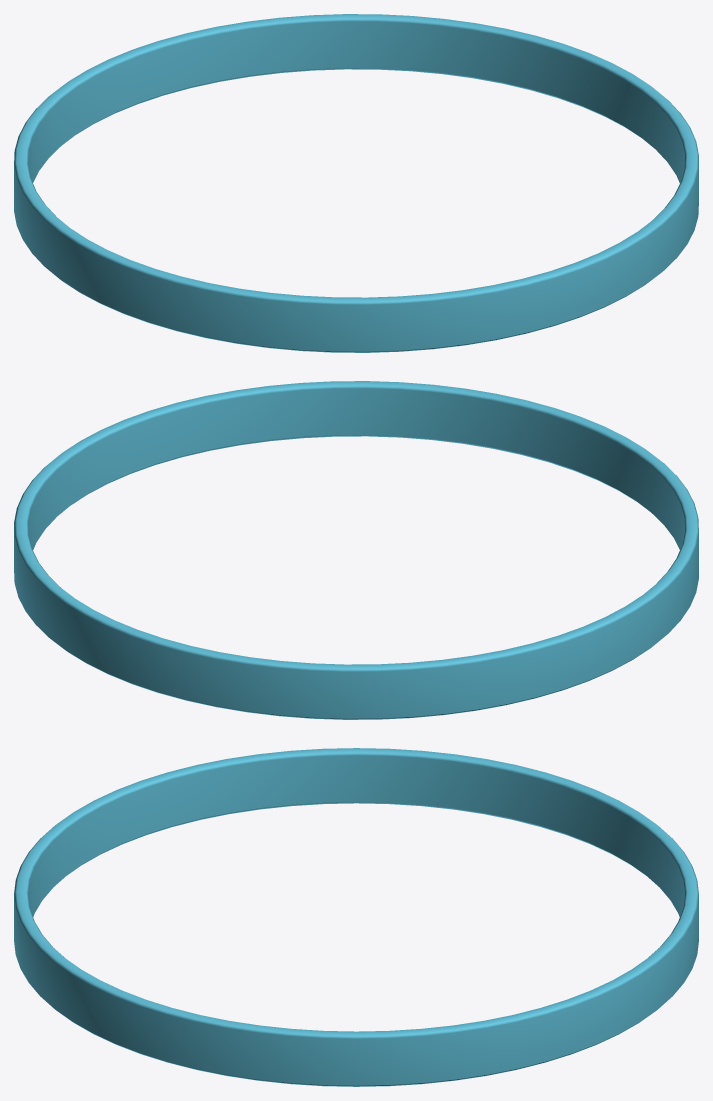
3 views of the same model, one above another, from view 1: azimuth 30°, elevation 25°; view 2: azimuth 150°, elevation 25°; view 3: azimuth 270°, elevation 25° (orthographic).
Parts seen in each view (by area): view 1: seal_body; view 2: seal_body; view 3: seal_body.
Part boxes in pixels (x1,y1,x2,y2): seal_body: [14, 14, 698, 352]; seal_body: [14, 381, 698, 719]; seal_body: [14, 748, 698, 1086].
Size of the model in its own units: 0.1524 by 0.0127 by 0.1524.
